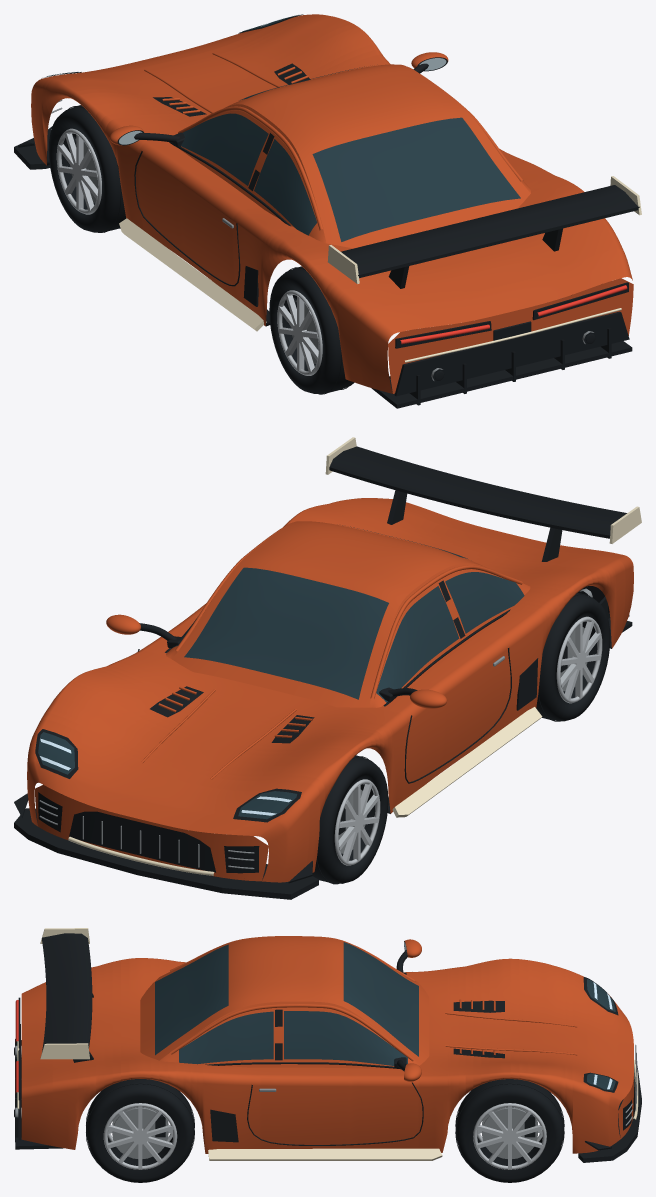
The picture shows the model from 3 angles, top to bottom: view 1: azimuth 30°, elevation 25°; view 2: azimuth 150°, elevation 25°; view 3: azimuth 270°, elevation 25°; orthographic projection. The views are drawn at different scales.
Parts seen in each view (by area): view 1: body_paint, body_carbon, body_glass, wheel_carbon (×2), wheel_rim (×2), body_accent, body_rearLights; view 2: body_paint, body_carbon, body_glass, wheel_carbon (×2), wheel_rim (×2), body_accent, body_metal; view 3: body_paint, body_glass, wheel_carbon (×2), body_carbon, wheel_rim (×2), body_accent, wheel_metal (×2), body_metal.
Part boxes in pixels (x1=…): body_paint: x1=31, y1=14, x2=633, y2=393; body_carbon: x1=14, y1=14, x2=639, y2=408; body_glass: x1=47, y1=15, x2=520, y2=241; wheel_carbon (×2): x1=48, y1=105, x2=354, y2=394; wheel_rim (×2): x1=56, y1=128, x2=322, y2=375; body_accent: x1=119, y1=176, x2=641, y2=362; body_rearLights: x1=400, y1=285, x2=627, y2=344; body_paint: x1=27, y1=498, x2=633, y2=882; body_carbon: x1=14, y1=446, x2=632, y2=899; body_glass: x1=38, y1=525, x2=524, y2=819; wheel_carbon (×2): x1=312, y1=593, x2=610, y2=884; wheel_rim (×2): x1=334, y1=616, x2=602, y2=865; body_accent: x1=68, y1=437, x2=641, y2=875; body_metal: x1=39, y1=588, x2=592, y2=869; body_paint: x1=21, y1=936, x2=633, y2=1153; body_glass: x1=155, y1=942, x2=615, y2=1090; wheel_carbon (×2): x1=86, y1=1079, x2=564, y2=1182; body_carbon: x1=14, y1=933, x2=641, y2=1162; wheel_rim (×2): x1=103, y1=1103, x2=546, y2=1169; body_accent: x1=17, y1=928, x2=638, y2=1160; wheel_metal (×2): x1=112, y1=1107, x2=537, y2=1158; body_metal: x1=15, y1=1044, x2=637, y2=1125.
Bounding box in the file's own units: 1.23 × 0.6919 × 2.38.
